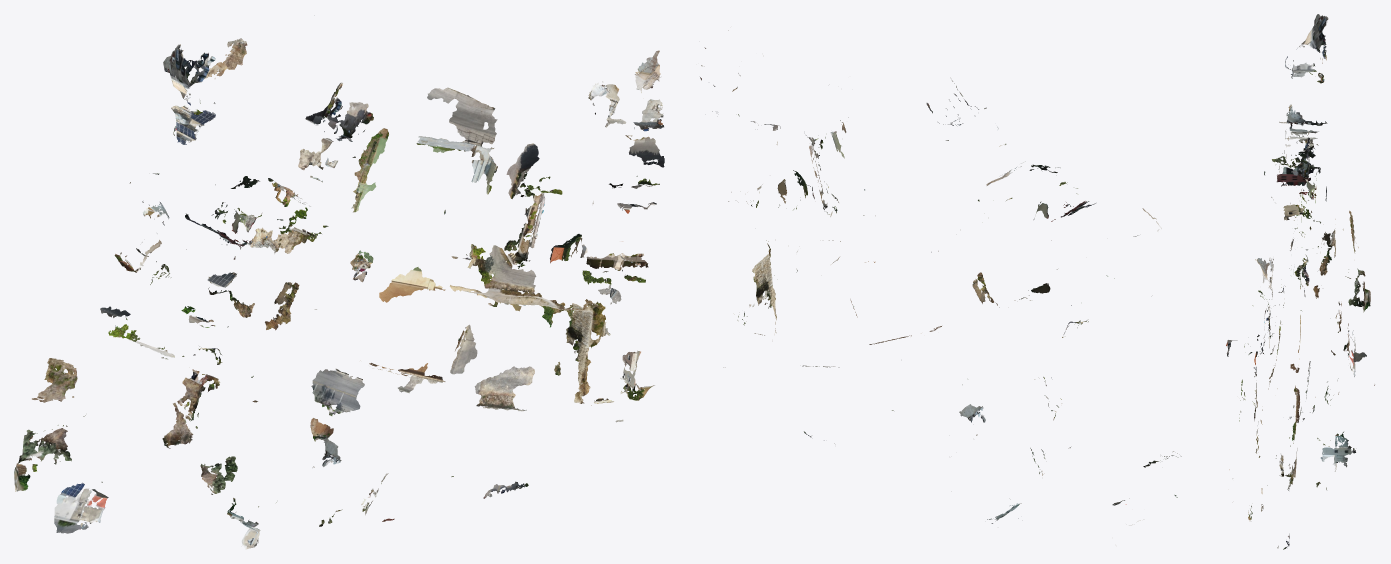
File: tile_3.glb
3 renders of one model, left to right at view 1: azimuth 30°, elevation 25°; view 2: azimuth 150°, elevation 25°; view 3: azimuth 270°, elevation 25°, orthographic. The views are drawn at different scales.
Size of the model in its own units: 177 by 153 by 49.97.
Materials: 1 (1 with a texture image).
